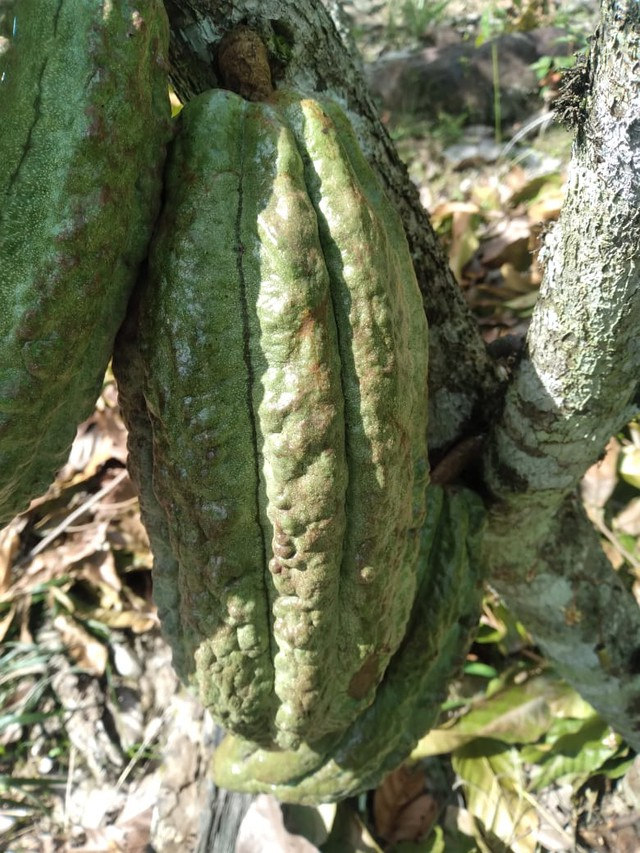carmenta foraseminis: (67, 43, 460, 767)
